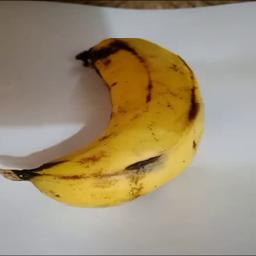Banana Semifresh: (8, 38, 205, 206)
